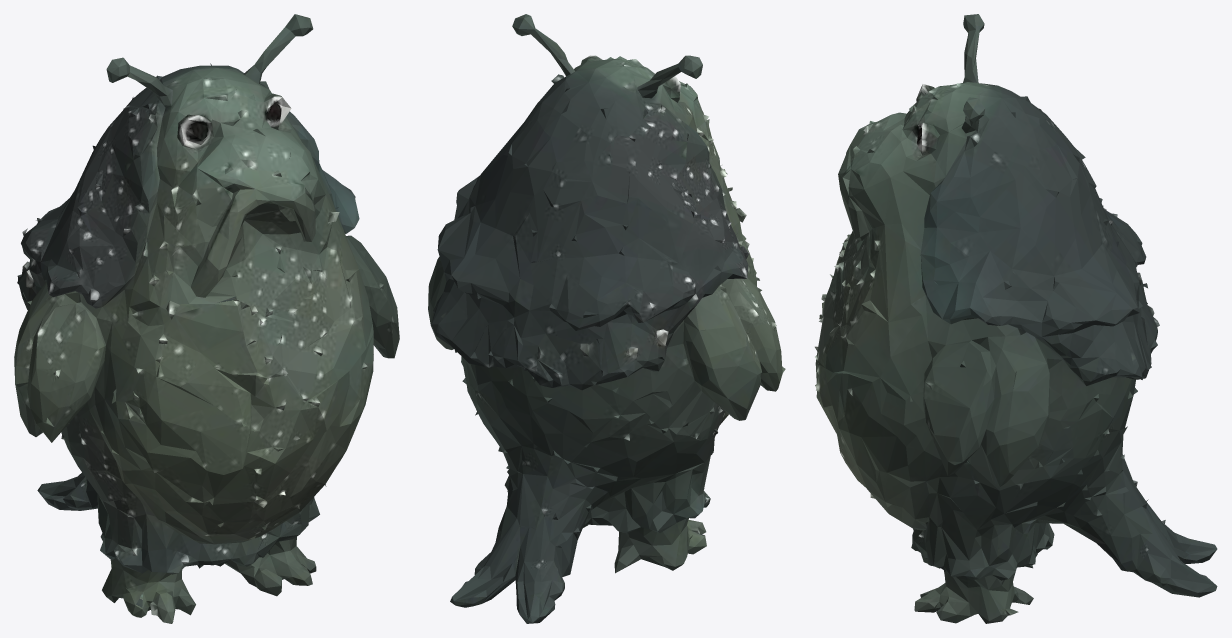
File: brine_slug.glb
3 renders of one model, left to right at view 1: azimuth 30°, elevation 25°; view 2: azimuth 150°, elevation 25°; view 3: azimuth 270°, elevation 25°, orthographic. The views are drawn at different scales.
Parts seen in each view (by area): view 1: tripo_node_e5662fbd-0024-4fac-b91c-b22b1d6bde3f; view 2: tripo_node_e5662fbd-0024-4fac-b91c-b22b1d6bde3f; view 3: tripo_node_e5662fbd-0024-4fac-b91c-b22b1d6bde3f.
Boxes of the visible parts, box(x1,y1,x2,y2) form: tripo_node_e5662fbd-0024-4fac-b91c-b22b1d6bde3f: box(14, 14, 399, 623); tripo_node_e5662fbd-0024-4fac-b91c-b22b1d6bde3f: box(428, 14, 785, 623); tripo_node_e5662fbd-0024-4fac-b91c-b22b1d6bde3f: box(815, 14, 1217, 623).
Size of the model in its own units: 0.6858 by 1 by 0.6883.
1 material, 1 textured.
